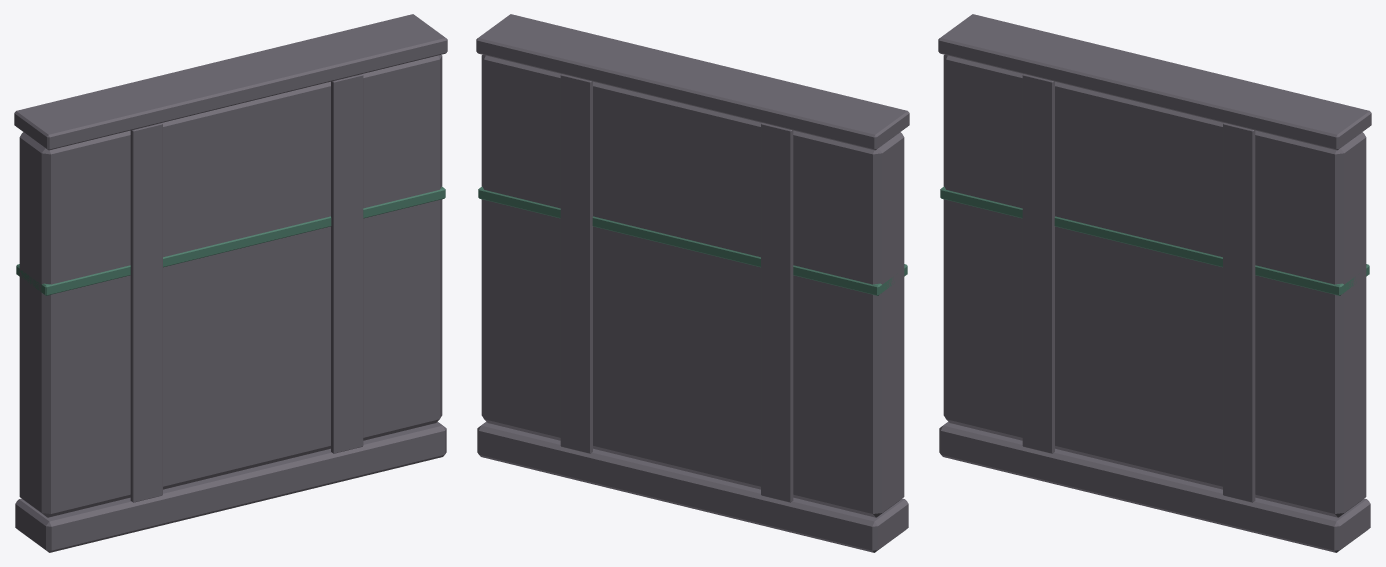
The model's file is Bld_Lab_Wall4m_Plain.glb.
The picture shows the model from 3 angles, left to right: view 1: azimuth 30°, elevation 25°; view 2: azimuth 150°, elevation 25°; view 3: azimuth 330°, elevation 25°; orthographic projection.
Parts seen in each view (by area): view 1: Bld_Lab_Wall4m_Plain; view 2: Bld_Lab_Wall4m_Plain; view 3: Bld_Lab_Wall4m_Plain.
Boxes of the visible parts, x1=… form: Bld_Lab_Wall4m_Plain: x1=14, y1=14, x2=447, y2=552; Bld_Lab_Wall4m_Plain: x1=476, y1=14, x2=909, y2=552; Bld_Lab_Wall4m_Plain: x1=938, y1=14, x2=1371, y2=552.
Size of what is drawn, in the model's own units: 4 by 4 by 0.6.
